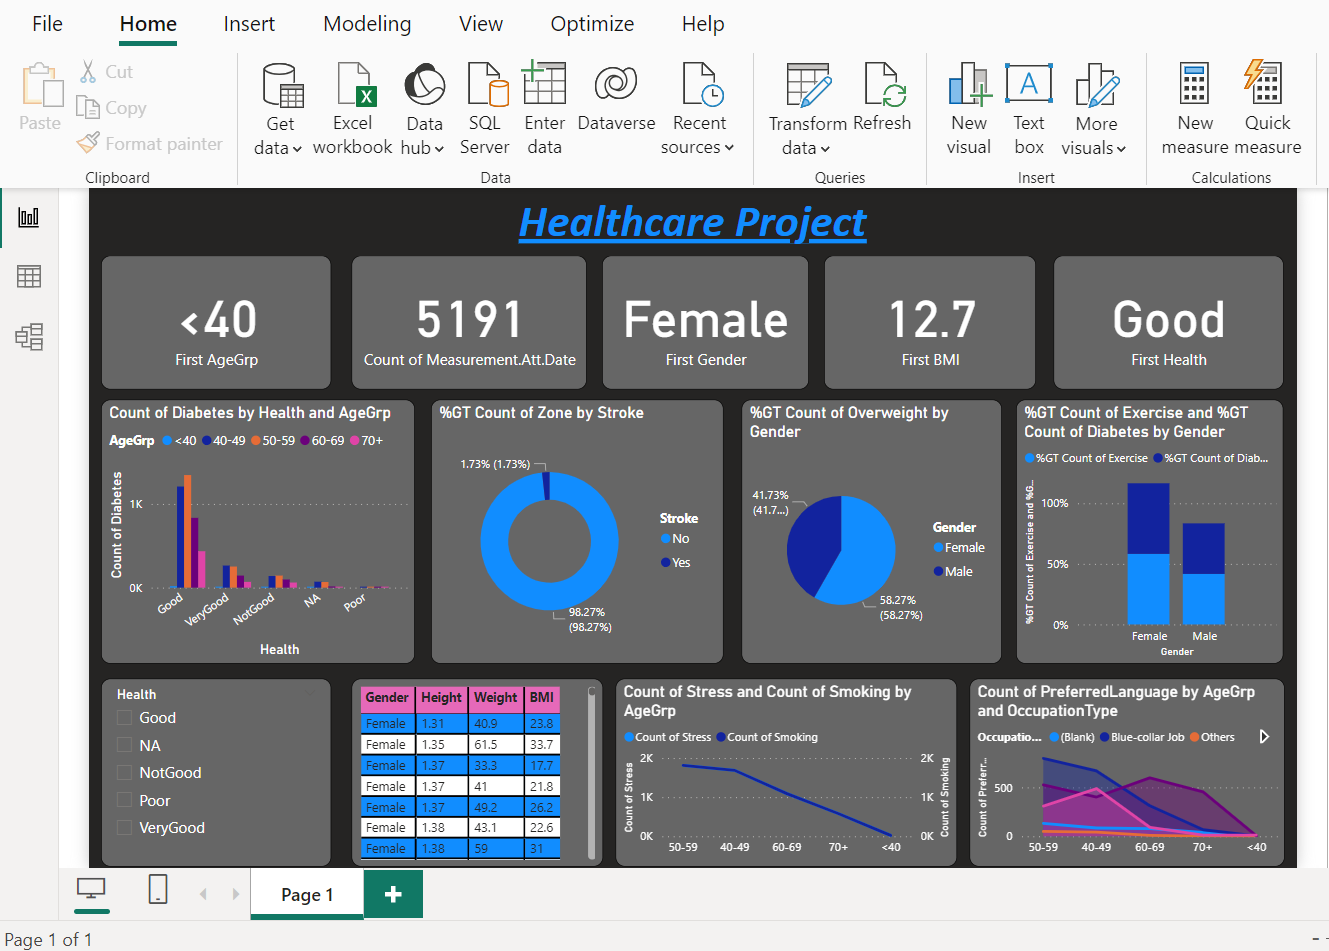

The page's visual inventory and layout, read from the dashboard file:
{"tool":"powerbi","page":{"name":"Page 1","canvas":[1280,720],"ordinal":0},"visuals":[{"type":"card","fields":{"Values":["Min(Table1.AgeGrp)"]},"box":[13.2,71.8,243.8,141.7],"z":0},{"type":"card","fields":{"Values":["CountNonNull(Table1.Measurement.Att.Date)"]},"box":[277.8,71.8,249.5,141.7],"z":1000},{"type":"card","fields":{"Values":["Min(Table1.Gender)"]},"box":[544.3,71.8,219.2,141.7],"z":2000},{"type":"card","fields":{"Values":["Min(Table1.BMI)"]},"box":[778.6,71.8,224.9,141.7],"z":3000},{"type":"card","fields":{"Values":["Min(Table1.Health)"]},"box":[1022.4,71.8,243.8,141.7],"z":4000},{"type":"clusteredColumnChart","fields":{"Y":["CountNonNull(Table1.Diabetes)"],"Category":["Table1.Health"],"Series":["Table1.AgeGrp"]},"box":[13.2,224.9,332.6,279.7],"z":5000},{"type":"donutChart","fields":{"Category":["Table1.Stroke"],"Y":["CountNonNull(Table1.Zone)"]},"box":[362.8,224.9,309.9,279.7],"z":6000},{"type":"pieChart","fields":{"Y":["CountNonNull(Table1.Overweight)"],"Category":["Table1.Gender"]},"box":[691.7,224.9,275.9,279.7],"z":7000},{"type":"columnChart","fields":{"Category":["Table1.Gender"],"Y":["CountNonNull(Table1.Exercise)","CountNonNull(Table1.Diabetes)"]},"box":[982.7,224.9,283.5,279.7],"z":8000},{"type":"slicer","fields":{"Values":["Table1.Health"]},"box":[13.1,520.3,244.3,199.6],"z":9000},{"type":"tableEx","fields":{"Values":["Table1.Gender","Table1.Height","Table1.Weight","Table1.BMI"]},"box":[277.9,520.3,266.7,199.6],"z":10000},{"type":"actionButton","box":[0,0,100,40],"z":11000},{"type":"lineChart","fields":{"Y":["CountNonNull(Table1.Stress)"],"Category":["Table1.AgeGrp"],"Y2":["CountNonNull(Table1.Smoking)"]},"box":[557.6,520.3,361.8,199.6],"z":12000},{"type":"areaChart","fields":{"Y":["CountNonNull(Table1.PreferredLanguage)"],"Category":["Table1.AgeGrp"],"Series":["Table1.OccupationType"]},"box":[932.5,520.3,333.8,199.6],"z":13000},{"type":"textbox","box":[0,0,1279.4,71.8],"z":14000}]}

Visuals, with their boxes on the page's 1280x720 design canvas (x1, y1, x2, y2). These are canvas units, not pixel positions in the 1329x951 screenshot, which may show the page scaled, cropped or inside an application window:
card - Min(Table1.AgeGrp): l=13, t=72, r=257, b=214
card - CountNonNull(Table1.Measurement.Att.Date): l=278, t=72, r=527, b=214
card - Min(Table1.Gender): l=544, t=72, r=764, b=214
card - Min(Table1.BMI): l=779, t=72, r=1004, b=214
card - Min(Table1.Health): l=1022, t=72, r=1266, b=214
clusteredColumnChart - CountNonNull(Table1.Diabetes) x Table1.Health: l=13, t=225, r=346, b=505
donutChart - Table1.Stroke x CountNonNull(Table1.Zone): l=363, t=225, r=673, b=505
pieChart - CountNonNull(Table1.Overweight) x Table1.Gender: l=692, t=225, r=968, b=505
columnChart - Table1.Gender x CountNonNull(Table1.Exercise): l=983, t=225, r=1266, b=505
slicer - Table1.Health: l=13, t=520, r=257, b=720
tableEx - Table1.Gender x Table1.Height: l=278, t=520, r=545, b=720
actionButton: l=0, t=0, r=100, b=40
lineChart - CountNonNull(Table1.Stress) x Table1.AgeGrp: l=558, t=520, r=919, b=720
areaChart - CountNonNull(Table1.PreferredLanguage) x Table1.AgeGrp: l=932, t=520, r=1266, b=720
textbox: l=0, t=0, r=1279, b=72
